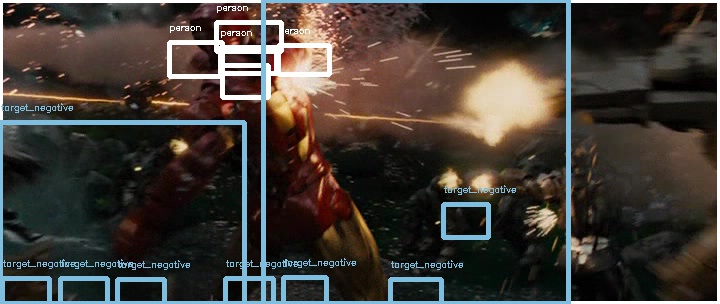person: (194, 3, 251, 65), (193, 3, 250, 65), (195, 3, 252, 65), (194, 2, 251, 64), (194, 4, 251, 66)
target_negative: (357, 9, 586, 209), (156, 11, 356, 124), (320, 204, 510, 235), (80, 244, 269, 270), (547, 82, 573, 230), (341, 4, 371, 83)
